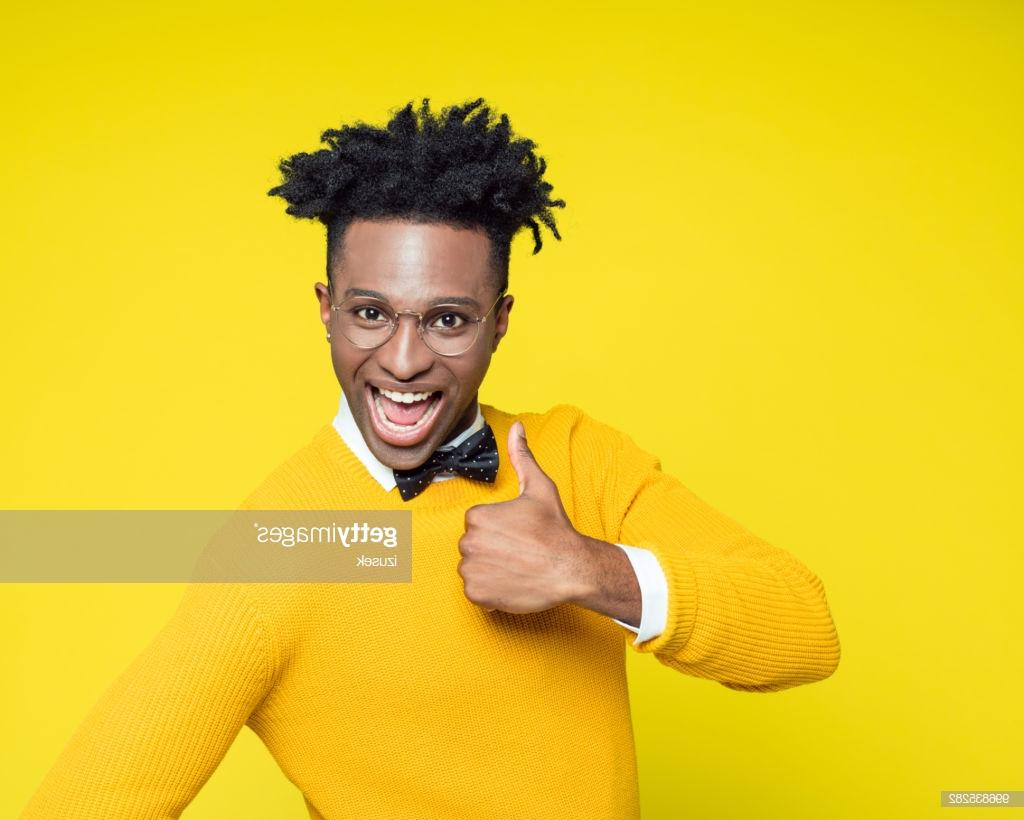thumbsup: (459, 421, 550, 613)
